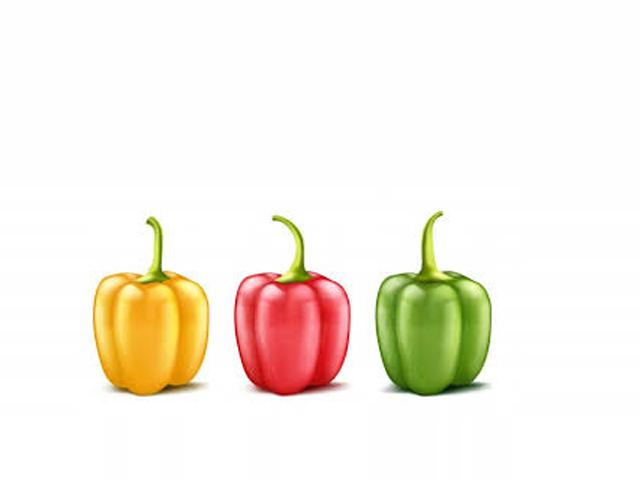bell_pepper: (375, 211, 504, 403)
